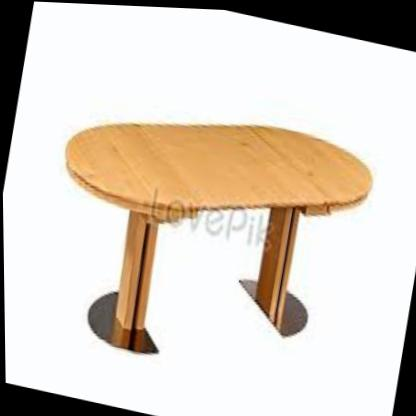Table: (20, 69, 388, 403)
